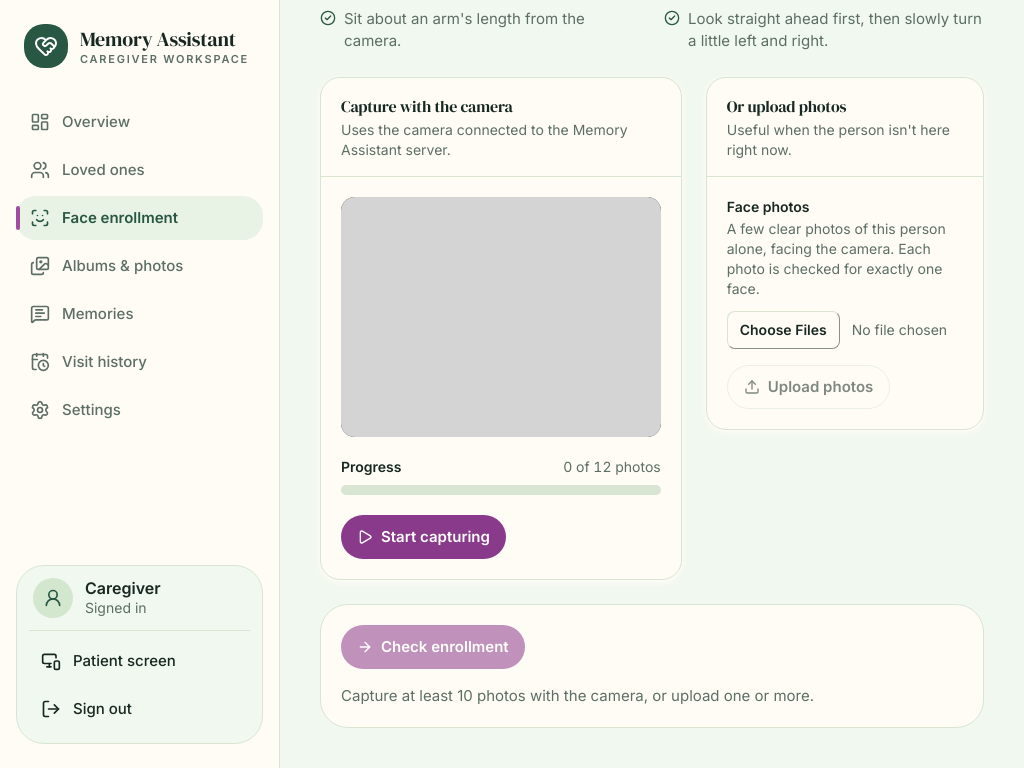
Test: face enrollment › stops and says so when the server camera is unavailable
(page scrolled)
Click the button "Start capturing": (423, 537) x1=341 y1=515 x2=506 y2=559
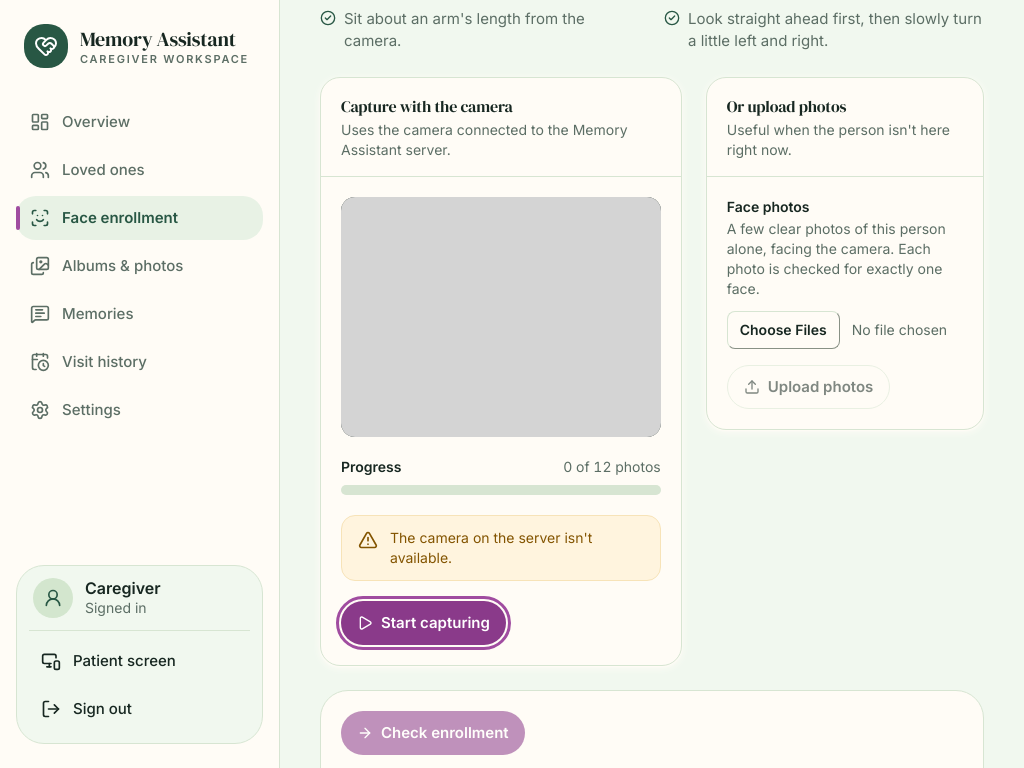
Check: the button "Start capturing" is shown, box x1=341 y1=601 x2=506 y2=645
Check: the text "The camera on the server isn't available." is shown, box x1=390 y1=529 x2=592 y2=566
